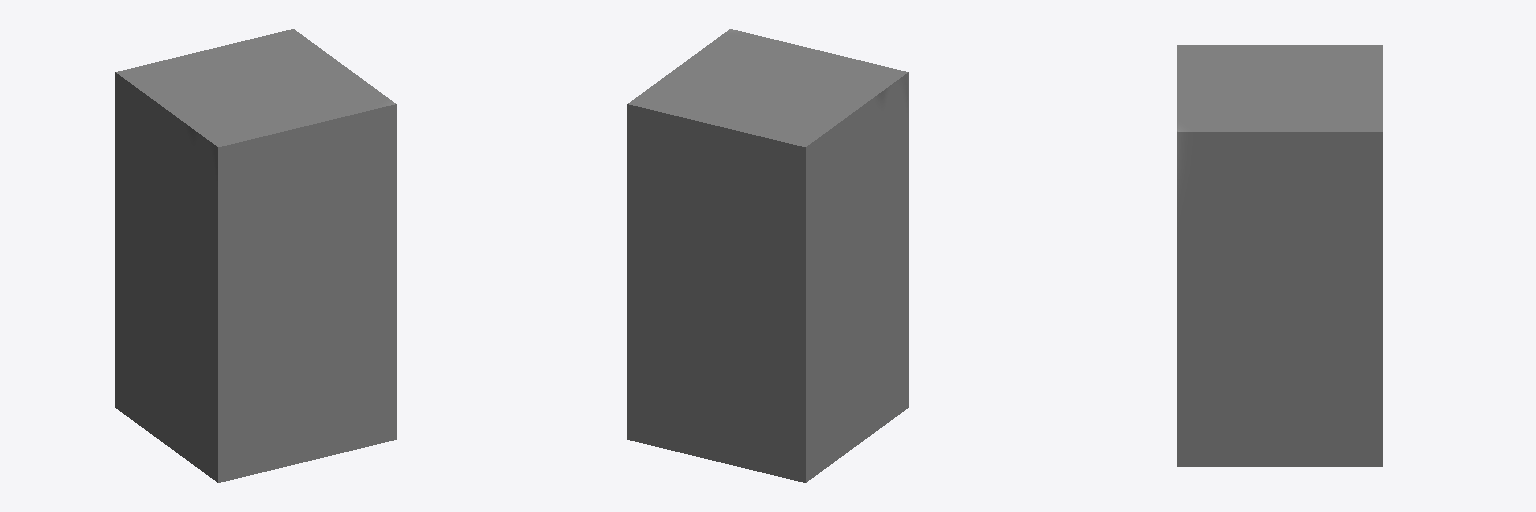
3 renders of one model, left to right at view 1: azimuth 30°, elevation 25°; view 2: azimuth 150°, elevation 25°; view 3: azimuth 270°, elevation 25°, orthographic.
Parts seen in each view (by area): view 1: Cube; view 2: Cube; view 3: Cube.
Part boxes in pixels (x1,y1,x2,y2): Cube: (115, 29, 396, 482); Cube: (627, 29, 908, 482); Cube: (1177, 45, 1382, 466).
Bounding box in the file's own units: 2 × 3.6 × 2.
Materials: 1 (1 with a texture image).